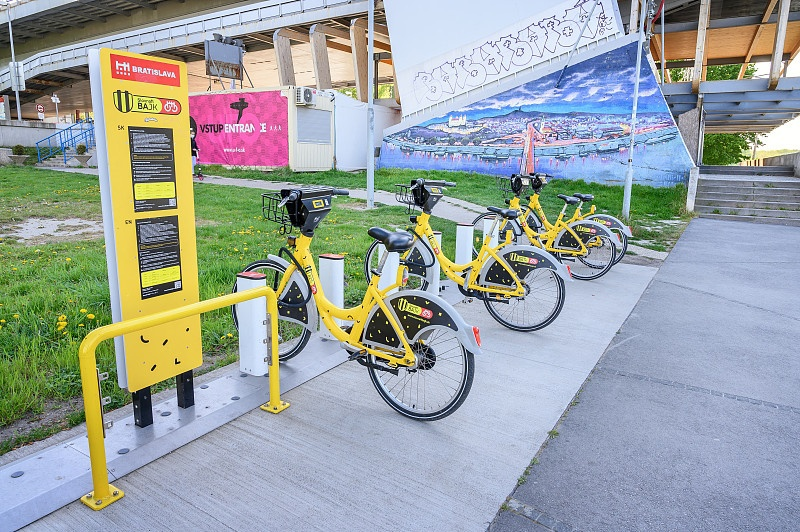non-vehicle: (245, 180, 480, 427), (363, 178, 565, 333), (484, 170, 619, 281)
